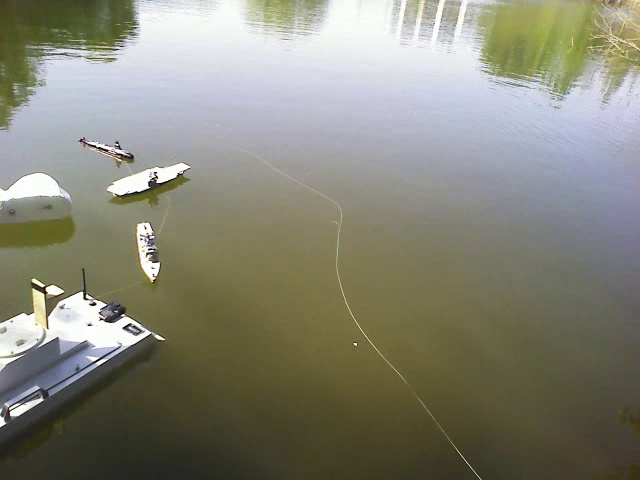aircraft_carrier: (107, 162, 192, 197)
boat: (3, 286, 166, 451)
iceberg: (3, 168, 79, 224)
submarine: (81, 134, 137, 163)
warship: (135, 219, 168, 286)
